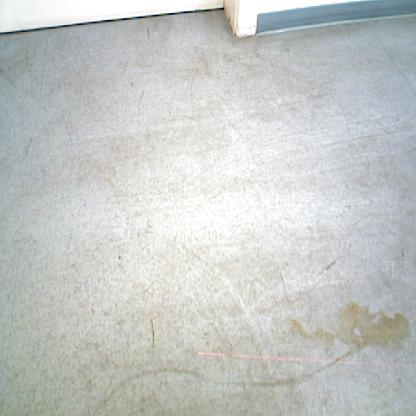liquid: (337, 300, 412, 358), (282, 319, 337, 358), (324, 350, 350, 370)
mark: (102, 364, 324, 408), (318, 258, 339, 276), (22, 137, 33, 158), (150, 317, 156, 347), (278, 270, 286, 290), (138, 90, 145, 102), (56, 80, 62, 92), (116, 253, 123, 261), (146, 26, 150, 39), (394, 116, 400, 124), (130, 80, 135, 88), (401, 251, 405, 259)
